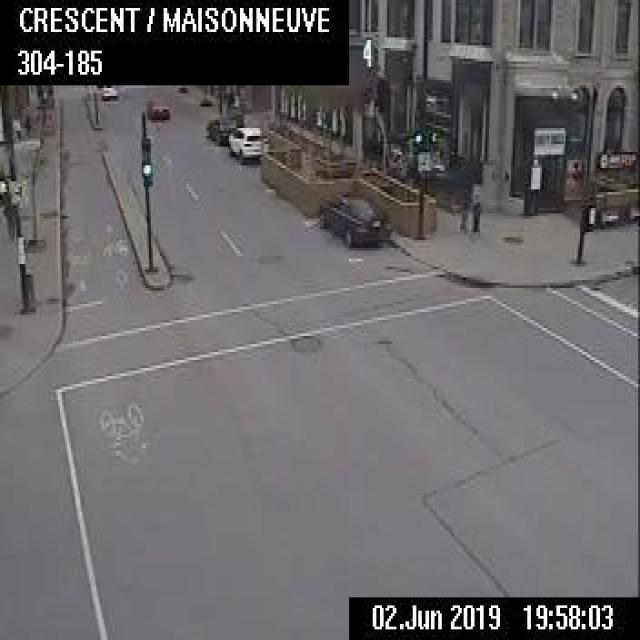pedestrian: (6, 168, 21, 235), (470, 190, 481, 235), (458, 188, 468, 232)
vehicle: (318, 189, 391, 248), (226, 124, 268, 160), (206, 112, 235, 142), (146, 99, 168, 119), (99, 82, 118, 100)
